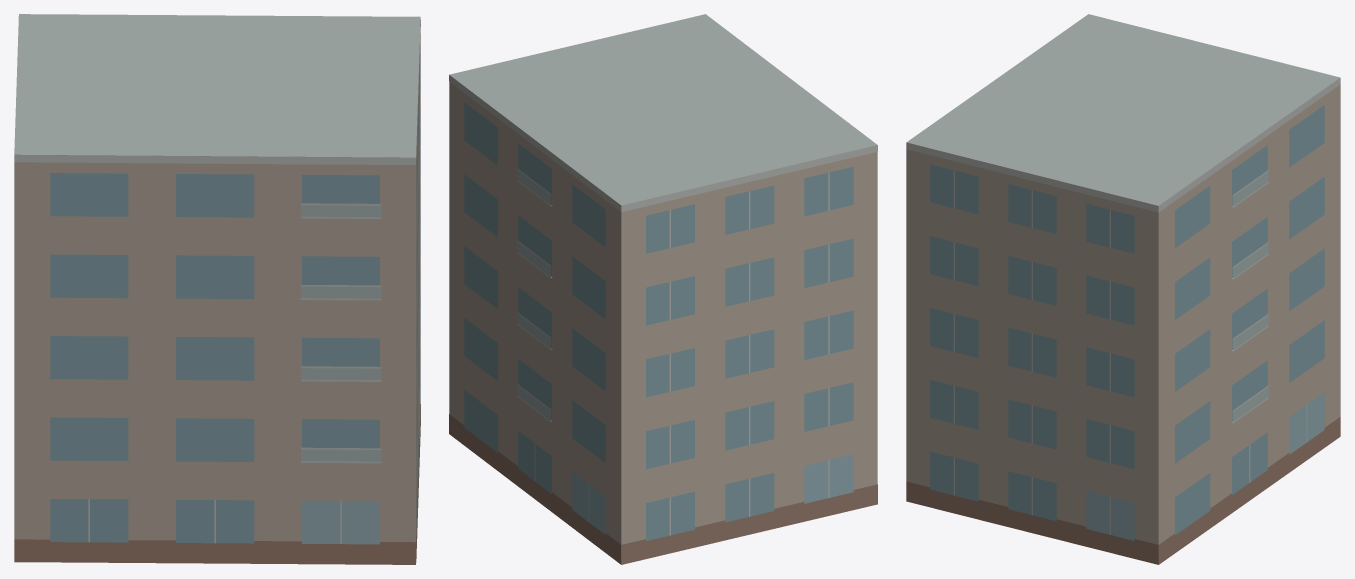
The model's file is survey-upis-32778360.glb.
3 views of the same model, side by side, from view 1: azimuth 30°, elevation 25°; view 2: azimuth 150°, elevation 25°; view 3: azimuth 270°, elevation 25° (orthographic). The views are drawn at different scales.
Parts seen in each view (by area): view 1: survey-upis-32778360.tmp; view 2: survey-upis-32778360.tmp; view 3: survey-upis-32778360.tmp.
Part boxes in pixels (x1,y1,x2,y2): survey-upis-32778360.tmp: (14,14,420,564); survey-upis-32778360.tmp: (449,14,877,564); survey-upis-32778360.tmp: (906,14,1340,564).
Bounding box in the file's own units: 15.03 × 13.1 × 14.37.
